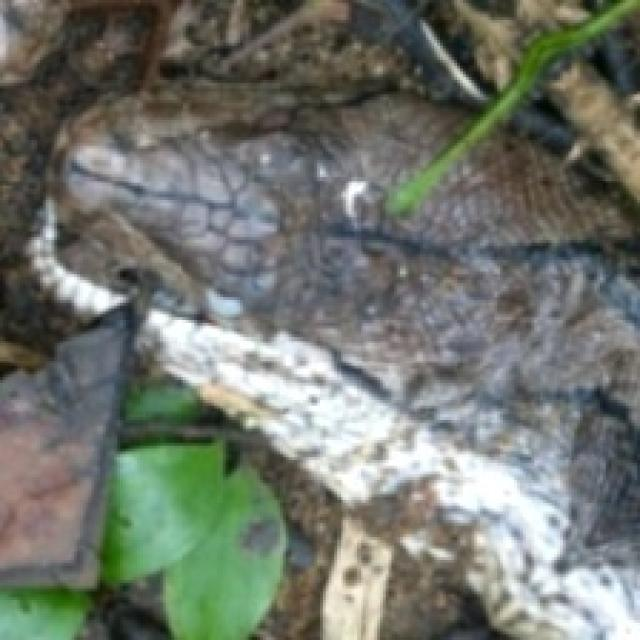reticulated python: (40, 0, 637, 637)
